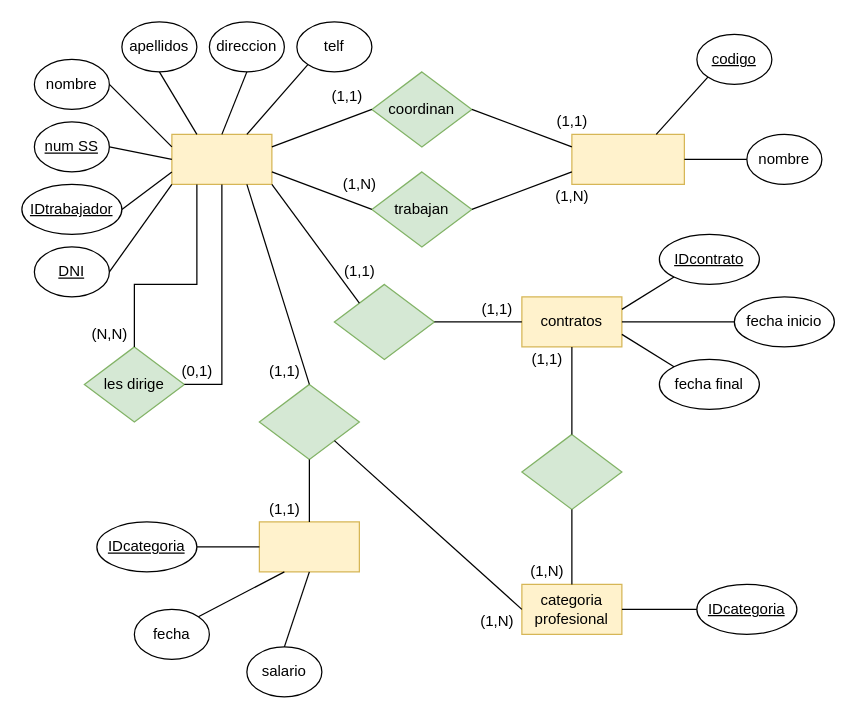
This 856x719 diagram has some shape labels left out. The centre of each missing label's shape, as x and y in pixels:
"departamentos" belongs at point (627, 158).
"dirigidas" belongs at point (308, 421).
"nominas" belongs at point (308, 546).
"pertenecen" belongs at point (571, 471).
"tienen" belongs at point (383, 321).
"trabajadores" belongs at point (221, 158).
